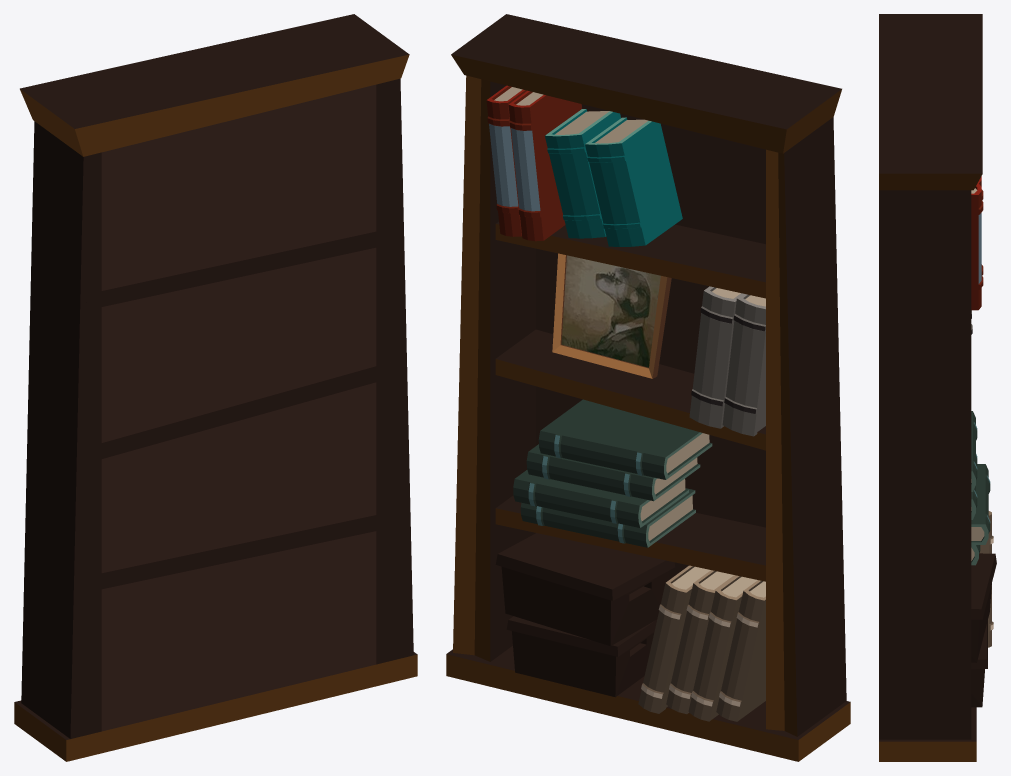
File: Puzzle04_LibraryDoor.glb
3 renders of one model, left to right at view 1: azimuth 30°, elevation 25°; view 2: azimuth 150°, elevation 25°; view 3: azimuth 270°, elevation 25°, orthographic. The views are drawn at different scales.
Parts seen in each view (by area): view 1: Puzzle04_Door; view 2: Puzzle04_Door; view 3: Puzzle04_Door.
Part boxes in pixels (x1,y1,x2,y2): Puzzle04_Door: (14, 14, 417, 761); Puzzle04_Door: (446, 14, 850, 761); Puzzle04_Door: (879, 14, 996, 761).
Size of the model in its own units: 2.35 by 4.03 by 0.7285.
2 materials, 2 textured.
